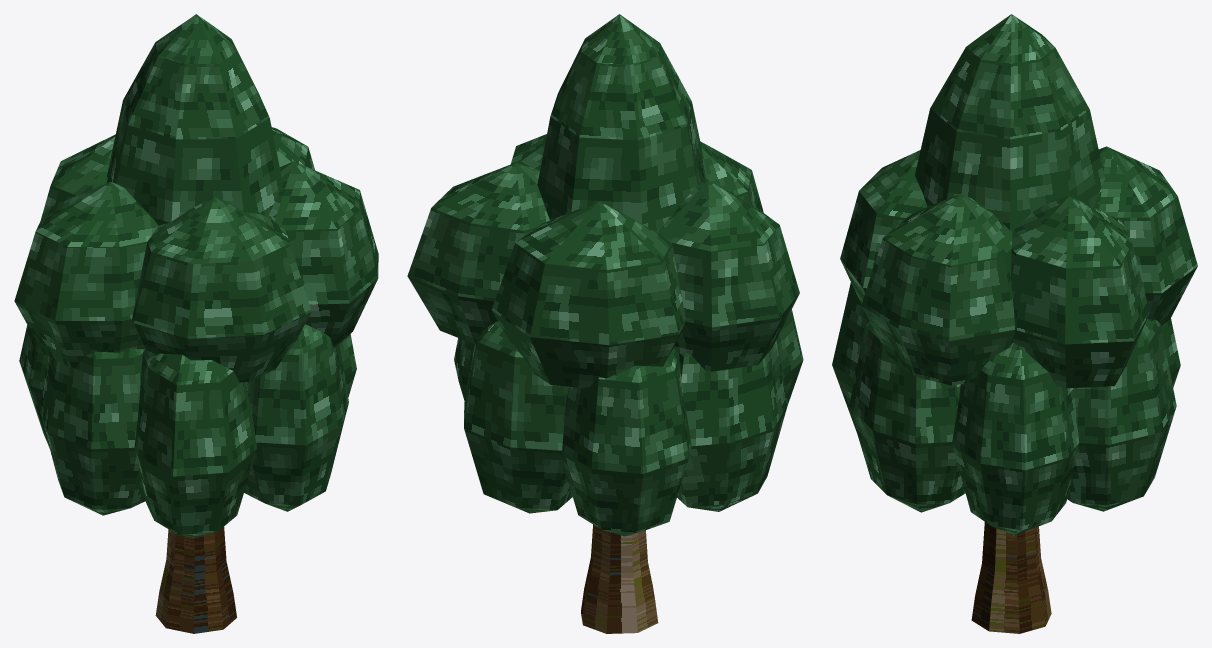
The model's file is rct2.scenery_small.tcy.glb.
The picture shows the model from 3 angles, left to right: view 1: azimuth 30°, elevation 25°; view 2: azimuth 150°, elevation 25°; view 3: azimuth 270°, elevation 25°; orthographic projection.
Visible parts, largest first — view 1: rct2.scenery_small.tcy; view 2: rct2.scenery_small.tcy; view 3: rct2.scenery_small.tcy.
Boxes of the visible parts, left/top/right/bottom form: rct2.scenery_small.tcy: left=14, top=14, right=378, bottom=633; rct2.scenery_small.tcy: left=407, top=14, right=803, bottom=633; rct2.scenery_small.tcy: left=832, top=14, right=1197, bottom=633.
Size of the model in its own units: 1.34 by 2.34 by 1.29.
Materials: 1 (1 with a texture image).
